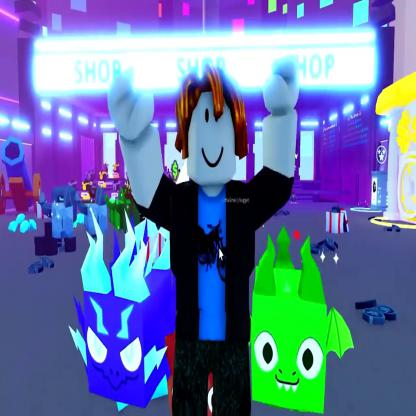Roblox-Avatar: (109, 55, 301, 416)
